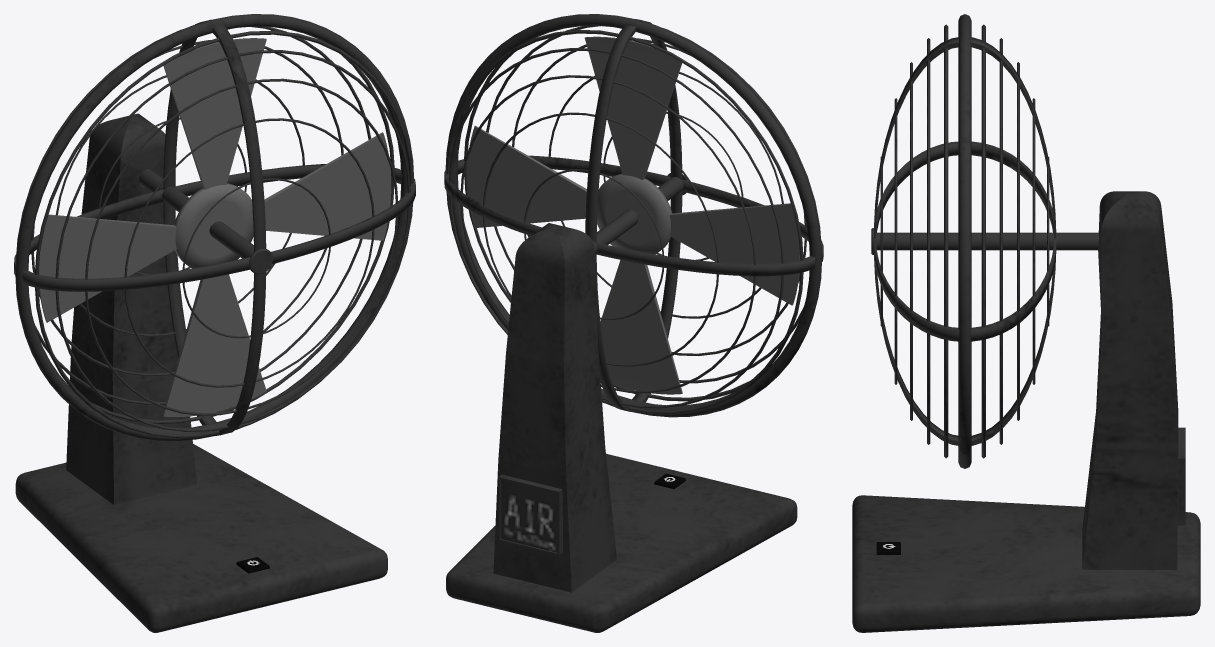
Rendered from Desk Fan.fbx.
3 renders of one model, left to right at view 1: azimuth 30°, elevation 25°; view 2: azimuth 150°, elevation 25°; view 3: azimuth 270°, elevation 25°, orthographic. The views are drawn at different scales.
Visible parts, largest first — view 1: Base, Fan; view 2: Base, Fan; view 3: Base, Fan.
Boxes of the visible parts, left/top/right/bottom form: Base: left=14, top=14, right=415, bottom=632; Fan: left=38, top=38, right=391, bottom=416; Base: left=444, top=14, right=823, bottom=632; Fan: left=467, top=36, right=799, bottom=394; Base: left=852, top=14, right=1200, bottom=632; Fan: left=876, top=232, right=1098, bottom=250.
Size of the model in its own units: 206 by 271 by 158.
